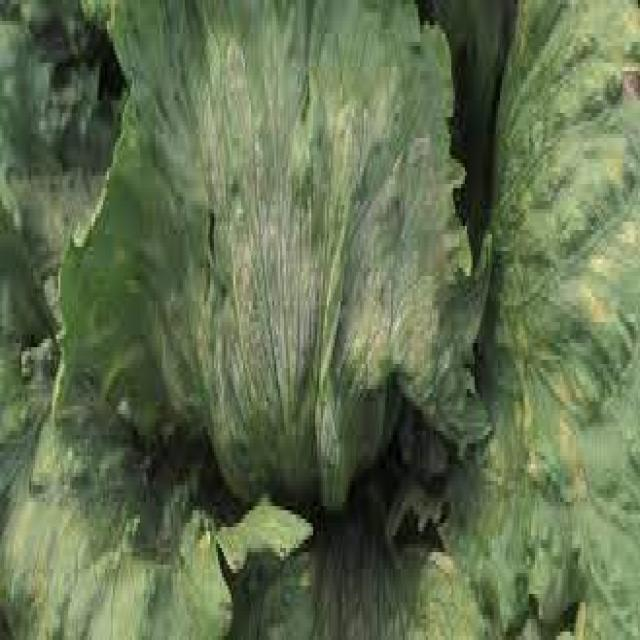Mature: (176, 32, 425, 361)
